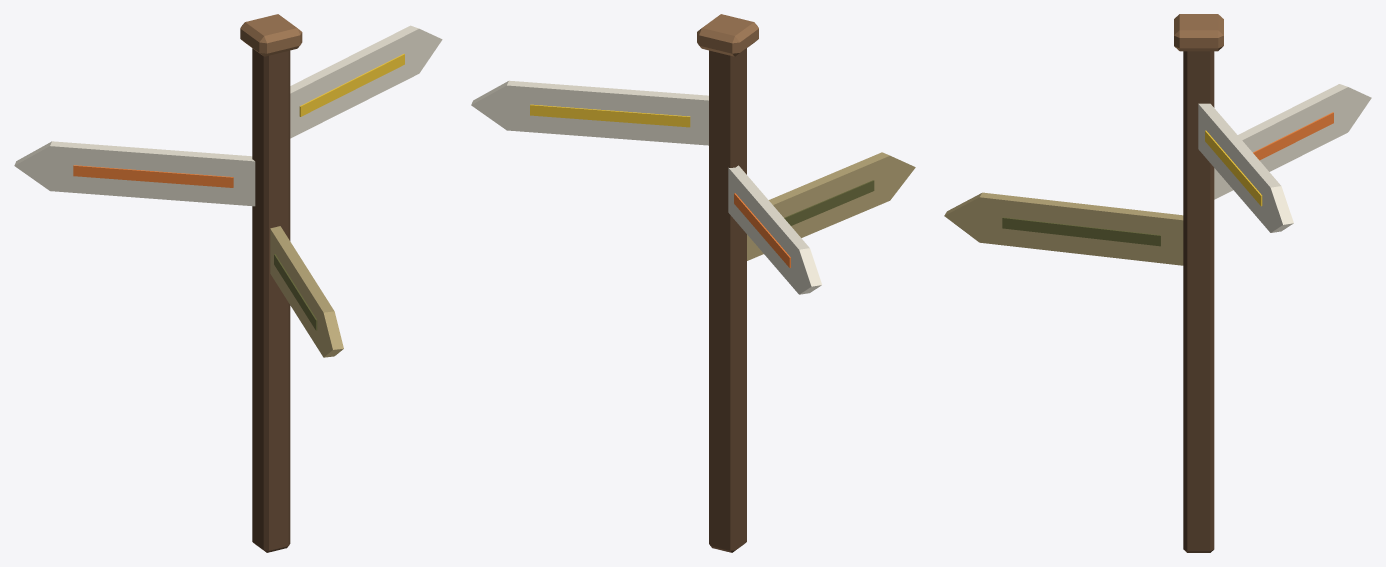
The model's file is signpost.glb.
3 views of the same model, side by side, from view 1: azimuth 30°, elevation 25°; view 2: azimuth 150°, elevation 25°; view 3: azimuth 270°, elevation 25° (orthographic).
Visible parts, largest first — view 1: LOD0; view 2: LOD0; view 3: LOD0.
Boxes of the visible parts, x1,y1,x2,y2 form: LOD0: (14,14,442,552); LOD0: (471,14,915,552); LOD0: (944,14,1371,552).
Size of the model in its own units: 2.35 by 3.01 by 2.22.
Materials: 1 (1 with a texture image).
